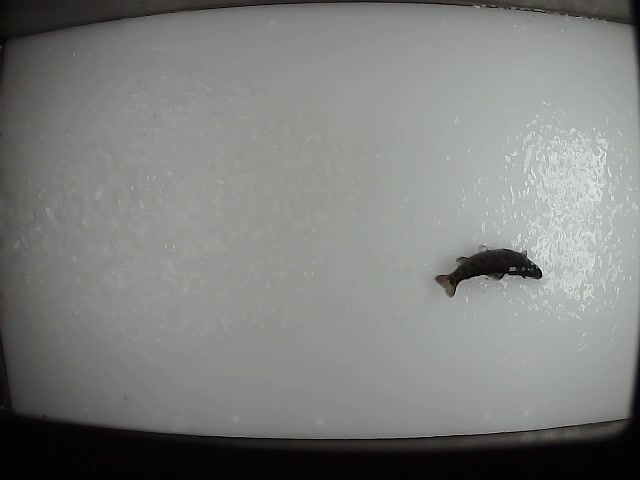fish: (431, 243, 543, 298)
